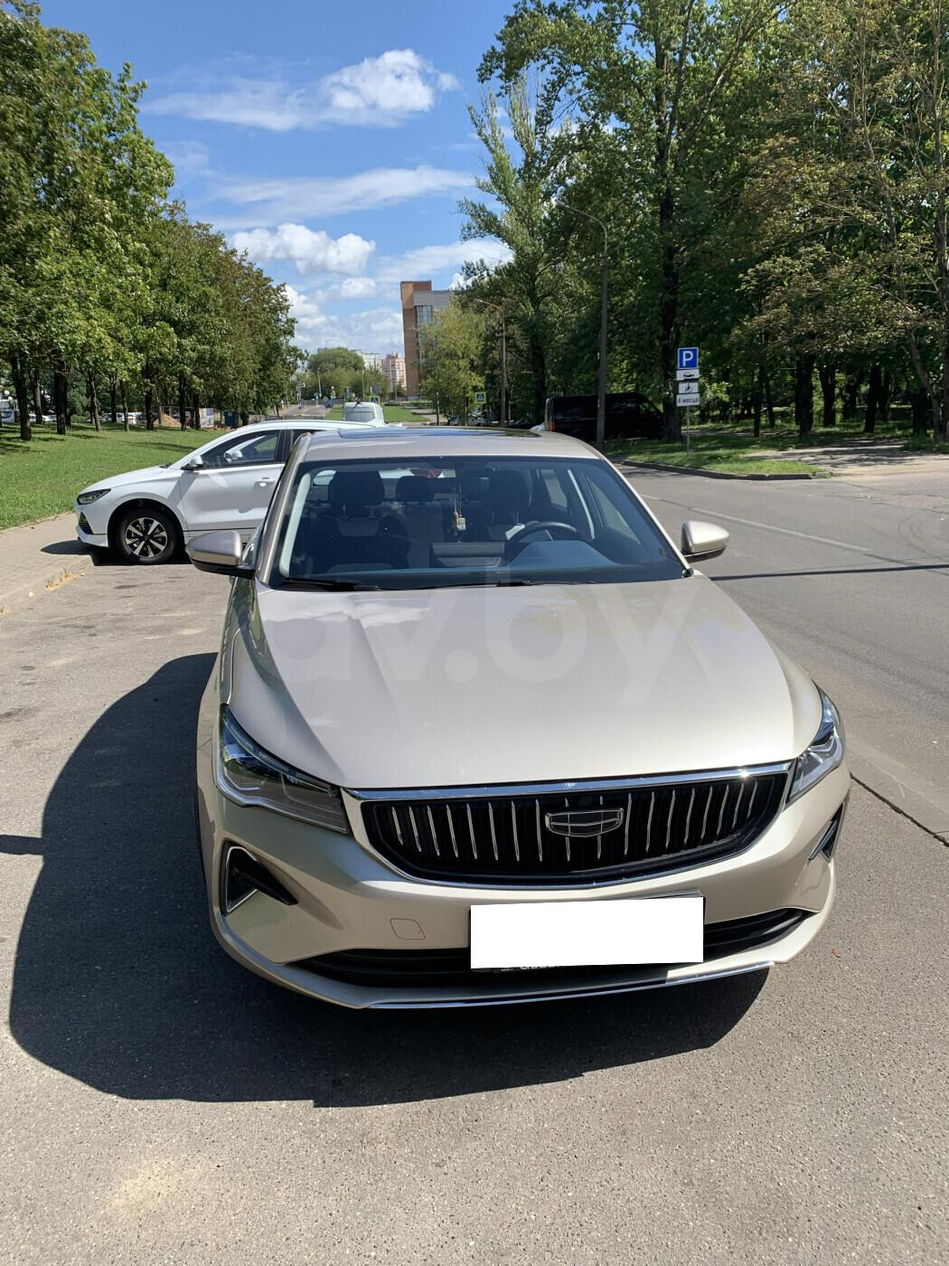Emgrand_2021: (190, 429, 849, 1006)
